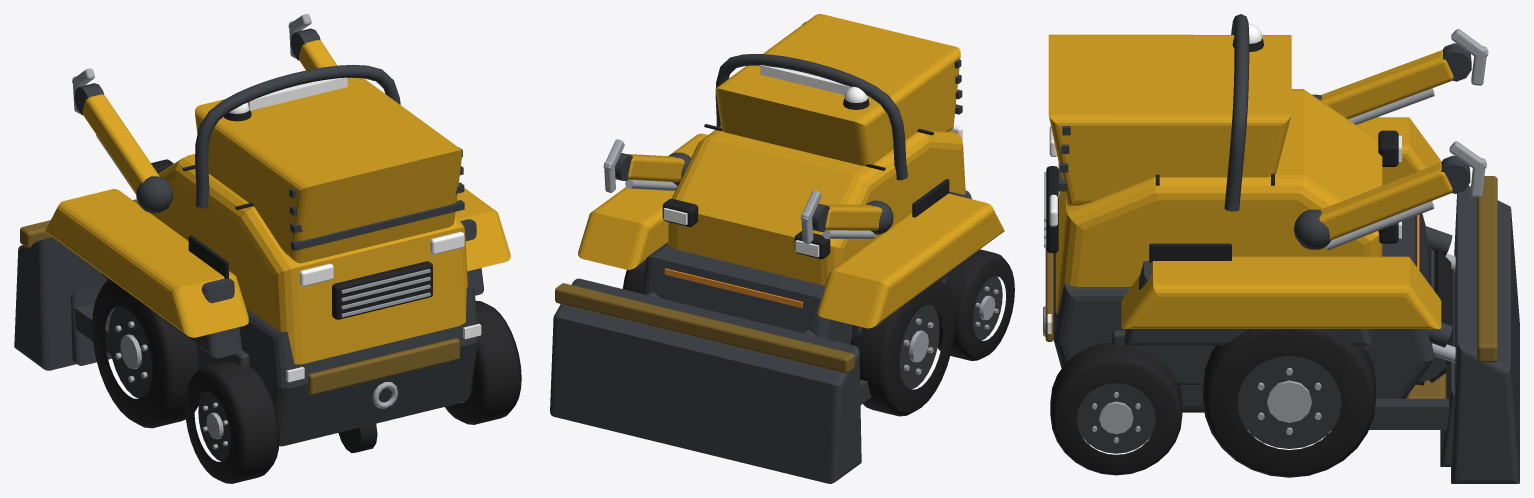
File: Machine_dozer_T3.glb
3 renders of one model, left to right at view 1: azimuth 30°, elevation 25°; view 2: azimuth 150°, elevation 25°; view 3: azimuth 270°, elevation 25°, orthographic. The views are drawn at different scales.
Parts seen in each view (by area): view 1: Tier2_Parts_MAT_Player_Shell_18, Tier1_Parts_MAT_Player_Gunmetal_9, Body_Shell_0, Axle_Rear_MAT_tread_14, Axle_Front_MAT_tread_6, Tier3_Parts_MAT_Player_Gunmetal_33, Tier1_Parts_MAT_darkTrim_10, Tier1_Parts_MAT_Player_Hazard_12, Tier2_Parts_MAT_Player_Gunmetal_19, Arm_L_Boom_23, Axle_Front_MAT_Player_Gunmetal_7, Tier1_Parts_MAT_steel_11 (+7 smaller); view 2: Tier1_Parts_MAT_Player_Gunmetal_9, Tier2_Parts_MAT_Player_Shell_18, Body_Shell_0, Axle_Front_MAT_tread_6, Tier1_Parts_MAT_Player_Hazard_12, Axle_Rear_MAT_tread_14, Tier3_Parts_MAT_Player_Gunmetal_33, Tier1_Parts_MAT_darkTrim_10, Axle_Front_MAT_Player_Gunmetal_7, Arm_L_Boom_23, Arm_R_Boom_28, RollCage_Lights_32 (+6 smaller); view 3: Tier2_Parts_MAT_Player_Shell_18, Tier1_Parts_MAT_Player_Gunmetal_9, Body_Shell_0, Axle_Front_MAT_tread_6, Axle_Rear_MAT_tread_14, Axle_Front_MAT_Player_Gunmetal_7, Tier1_Parts_MAT_Player_Hazard_12, Tier3_Parts_MAT_Player_Gunmetal_33, Arm_R_Boom_28, Arm_L_Boom_23, Tier1_Parts_MAT_darkTrim_10, Axle_Rear_MAT_Player_Gunmetal_15 (+13 smaller).
Part boxes in pixels (box(x1,y1,x2,y2)): Tier2_Parts_MAT_Player_Shell_18: box(45, 77, 510, 337); Tier1_Parts_MAT_Player_Gunmetal_9: box(14, 219, 483, 446); Body_Shell_0: box(150, 154, 467, 364); Axle_Rear_MAT_tread_14: box(185, 300, 521, 483); Axle_Front_MAT_tread_6: box(92, 279, 203, 428); Tier3_Parts_MAT_Player_Gunmetal_33: box(195, 64, 400, 369); Tier1_Parts_MAT_darkTrim_10: box(151, 159, 432, 452); Tier1_Parts_MAT_Player_Hazard_12: box(20, 199, 459, 395); Tier2_Parts_MAT_Player_Gunmetal_19: box(71, 147, 464, 365); Arm_L_Boom_23: box(82, 94, 159, 192); Axle_Front_MAT_Player_Gunmetal_7: box(108, 306, 152, 398); Tier1_Parts_MAT_steel_11: box(341, 269, 430, 408); Tier1_Parts_MAT_Player_Gunmetal_9: box(550, 190, 980, 483); Tier2_Parts_MAT_Player_Shell_18: box(578, 14, 1004, 328); Body_Shell_0: box(668, 126, 965, 285); Axle_Front_MAT_tread_6: box(622, 268, 954, 416); Tier1_Parts_MAT_Player_Hazard_12: box(555, 283, 854, 373); Axle_Rear_MAT_tread_14: box(934, 249, 1014, 360); Tier3_Parts_MAT_Player_Gunmetal_33: box(715, 54, 948, 341); Tier1_Parts_MAT_darkTrim_10: box(662, 124, 949, 259); Axle_Front_MAT_Player_Gunmetal_7: box(899, 304, 939, 389); Arm_L_Boom_23: box(822, 204, 882, 230); Arm_R_Boom_28: box(627, 154, 684, 182); RollCage_Lights_32: box(760, 65, 850, 94); Tier2_Parts_MAT_Player_Shell_18: box(1048, 34, 1441, 328); Tier1_Parts_MAT_Player_Gunmetal_9: box(1053, 185, 1519, 483); Body_Shell_0: box(1055, 89, 1382, 314); Axle_Front_MAT_tread_6: box(1203, 329, 1375, 477); Axle_Rear_MAT_tread_14: box(1050, 342, 1182, 475); Axle_Front_MAT_Player_Gunmetal_7: box(1237, 356, 1341, 448); Tier1_Parts_MAT_Player_Hazard_12: box(1045, 176, 1497, 398); Tier3_Parts_MAT_Player_Gunmetal_33: box(1112, 14, 1367, 384); Arm_R_Boom_28: box(1319, 163, 1452, 240); Arm_L_Boom_23: box(1321, 50, 1453, 119); Tier1_Parts_MAT_darkTrim_10: box(1046, 130, 1398, 262); Axle_Rear_MAT_Player_Gunmetal_15: box(1077, 383, 1155, 453).
Bounding box in the file's own units: 1 × 0.9699 × 1.16.
